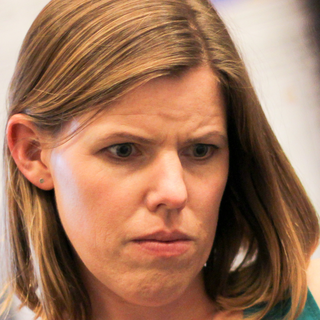eye: (93, 135, 146, 166), (175, 134, 220, 165)
